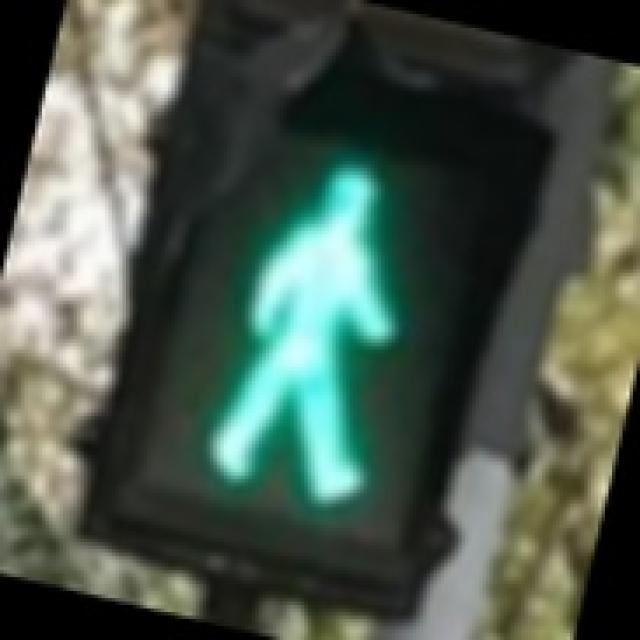green_light: (126, 77, 504, 560)
